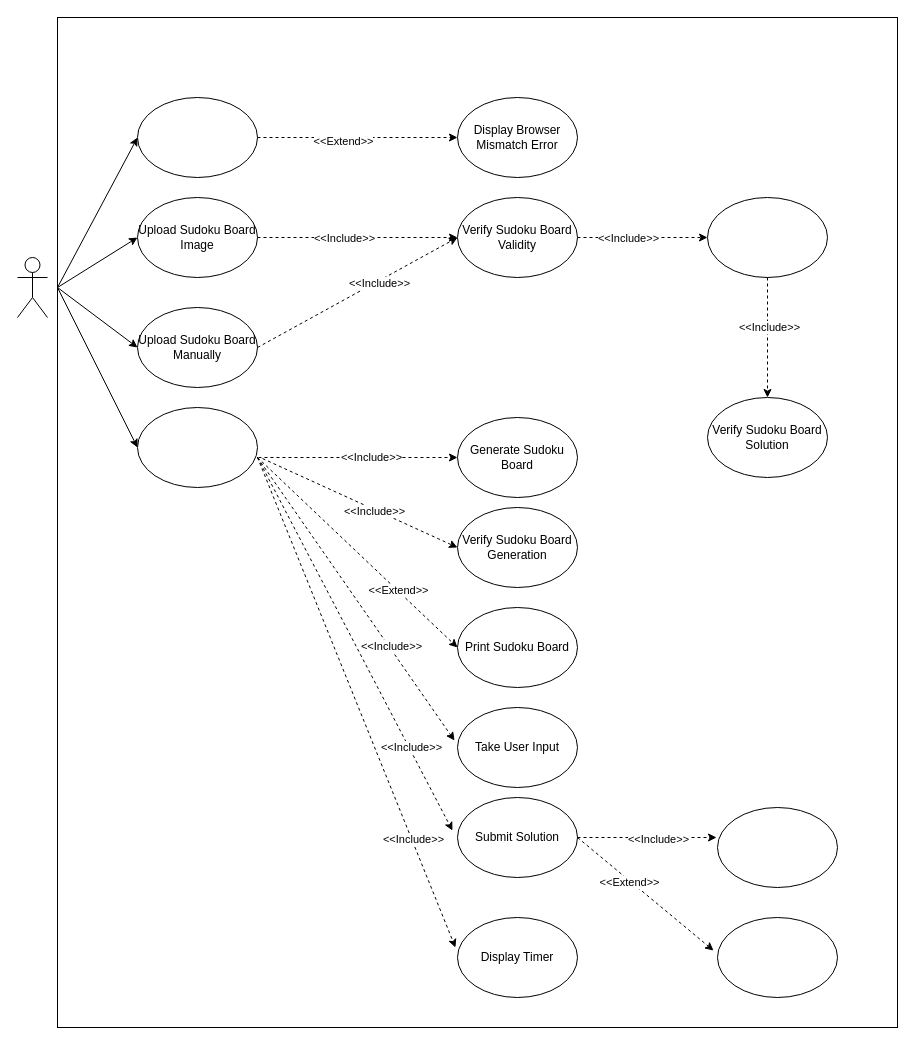
Some shapes in this 915 by 1045 pixel diagram are drawn without their labels. The shapes that lost their labels are listed below. From the top down, each one's box as (x1, y1, x2, y2) in pixels, then its label:
(136, 96, 258, 178): Load Homepage
(706, 196, 828, 278): Solve Sudoku Board
(16, 256, 48, 318): User
(136, 406, 258, 488): Start Sudoku Game
(716, 806, 838, 888): Verify User Solution
(716, 916, 838, 998): Display Sudoku Board Solution
